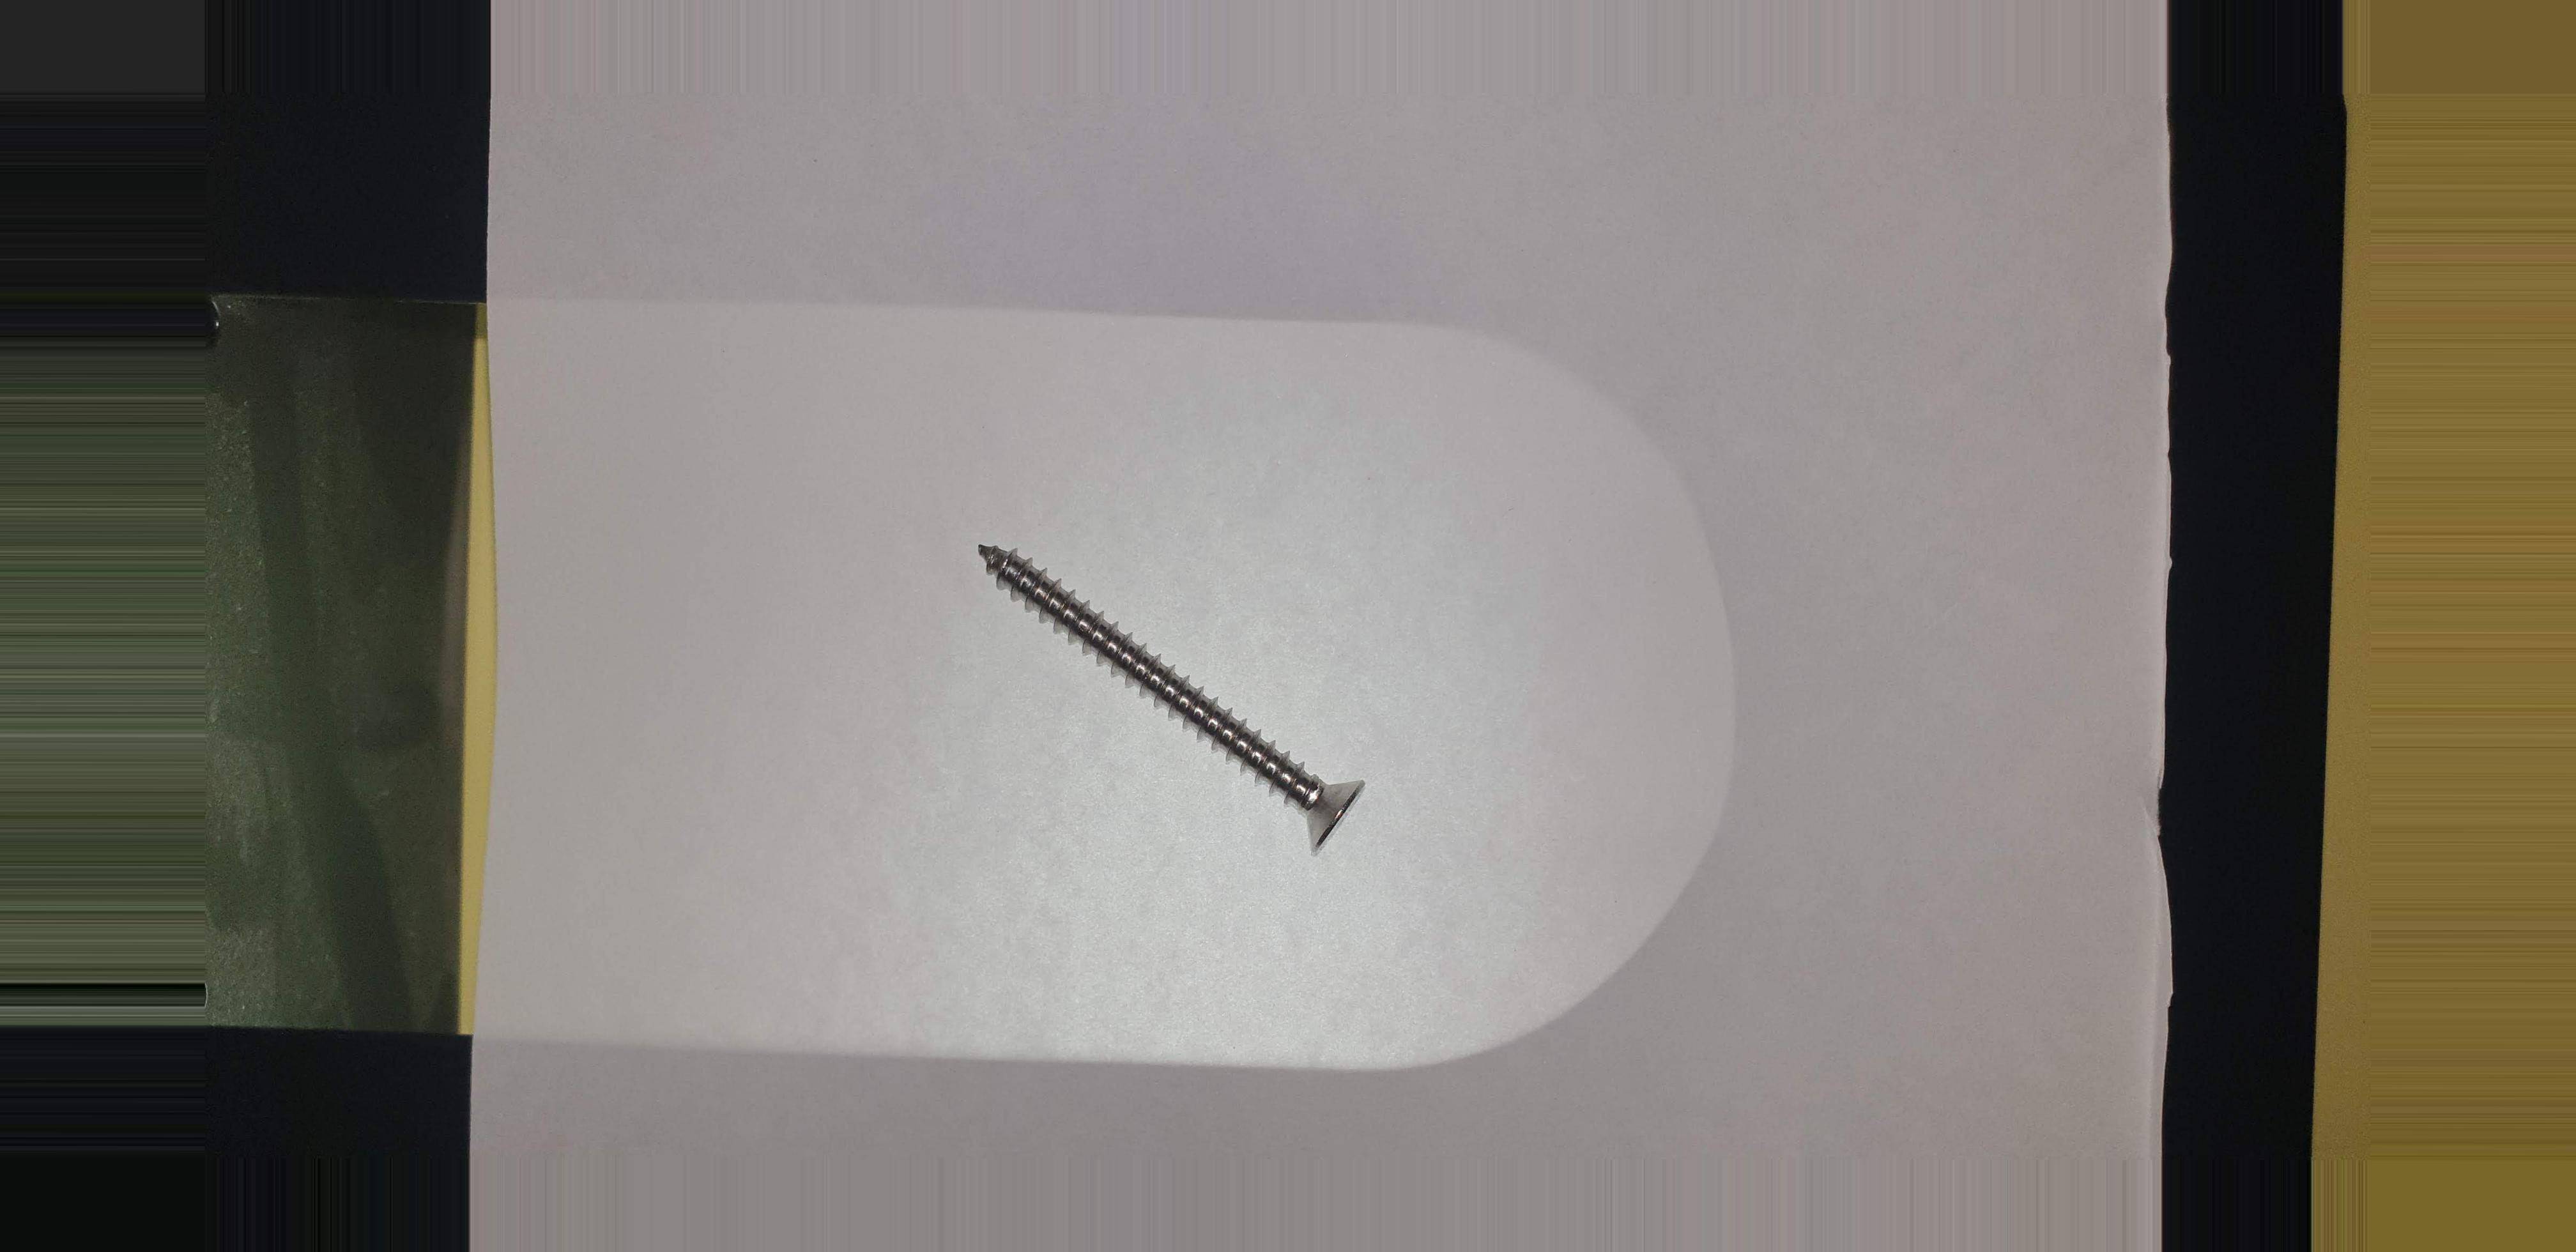fastener: (936, 504, 1405, 868)
